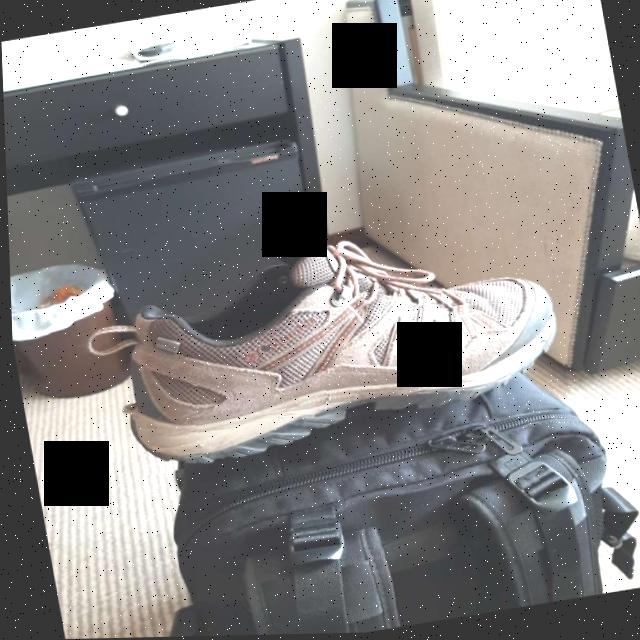shoe: (92, 186, 571, 478)
